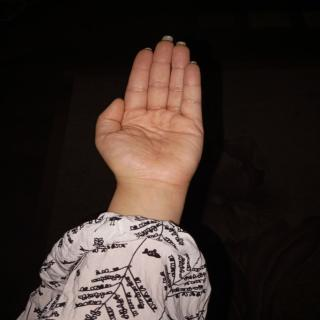SEEN: (86, 31, 223, 200)
